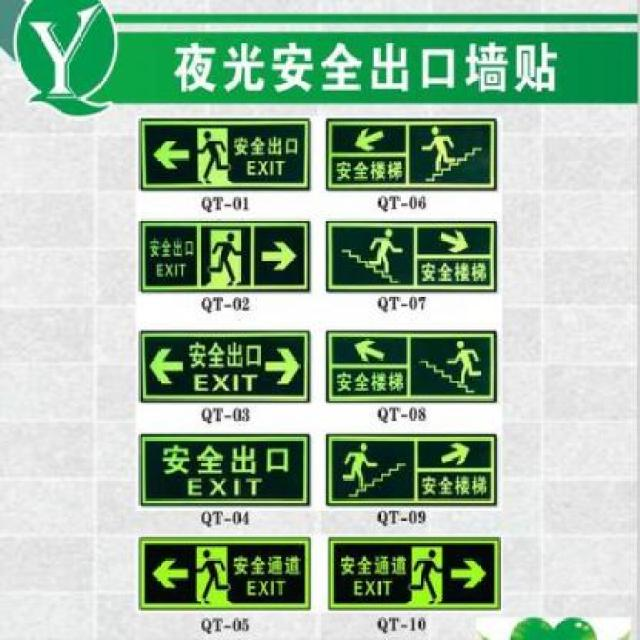exit_sign: (129, 106, 308, 198), (320, 531, 509, 615), (130, 534, 322, 615), (326, 215, 501, 302), (317, 325, 495, 409), (318, 428, 504, 508), (323, 117, 495, 198), (126, 332, 305, 408), (134, 431, 306, 508), (325, 217, 500, 291), (140, 216, 304, 294)
